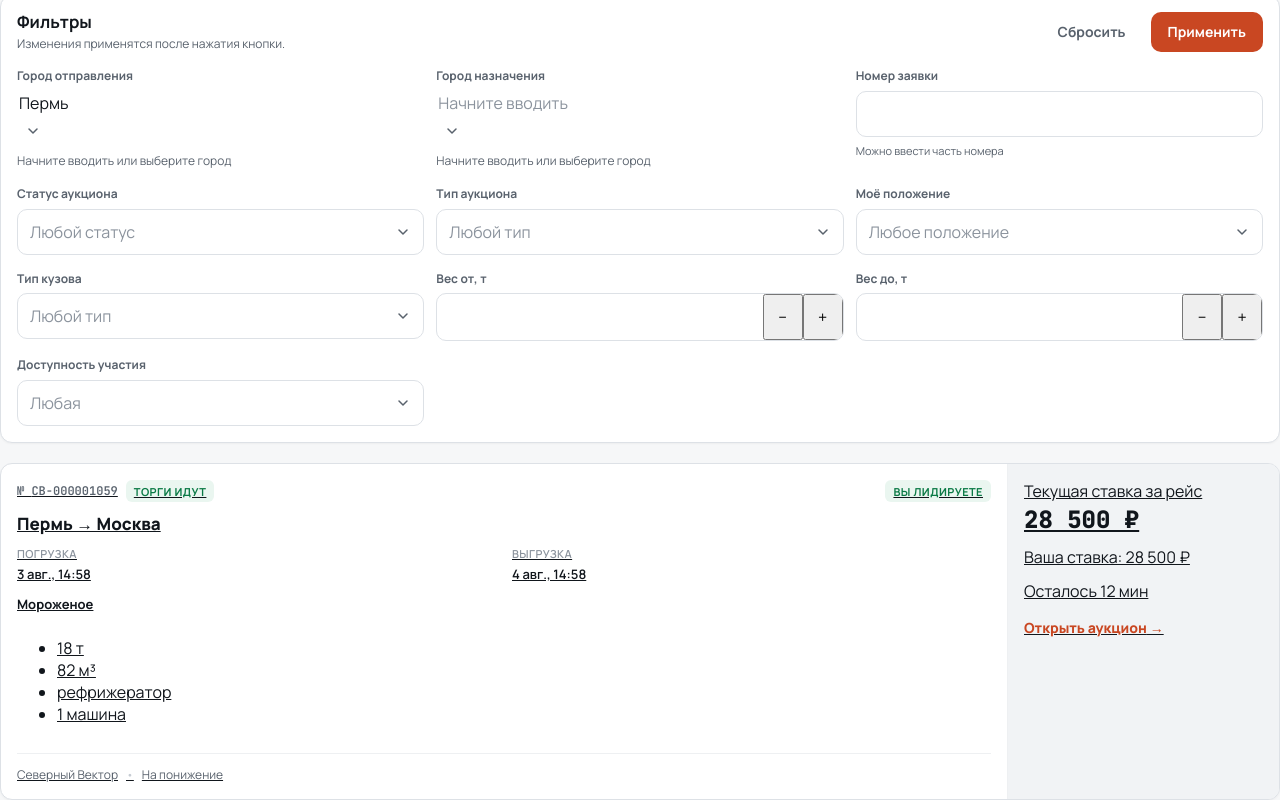
Test: auction details › returns to the filtered list with its search params preserved
(page scrolled)
Click the link with aria-label "Открыть CB-000001059: Пермь → Москва".
click(640, 631)  # box [0,463,1279,799]
(page scrolled)
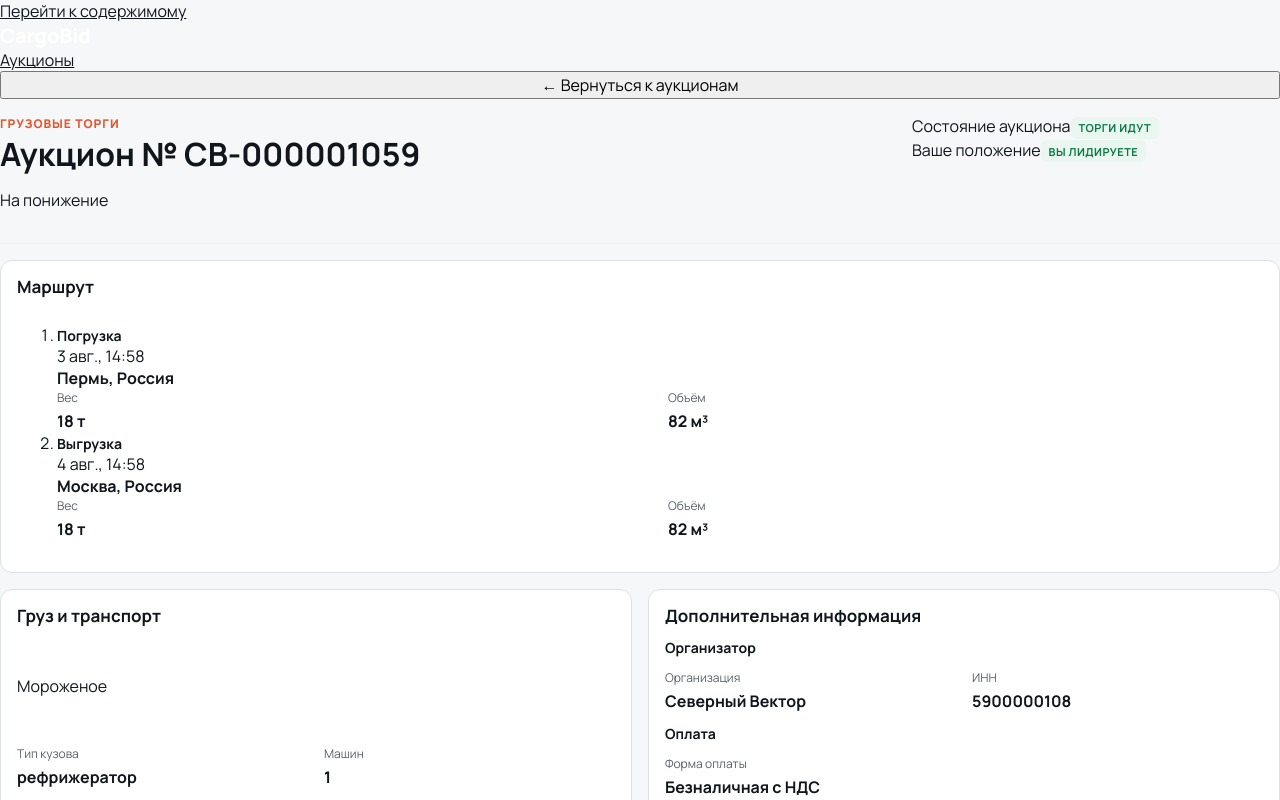
Click the button "← Вернуться к аукционам".
click(640, 85)  # box [0,71,1279,99]
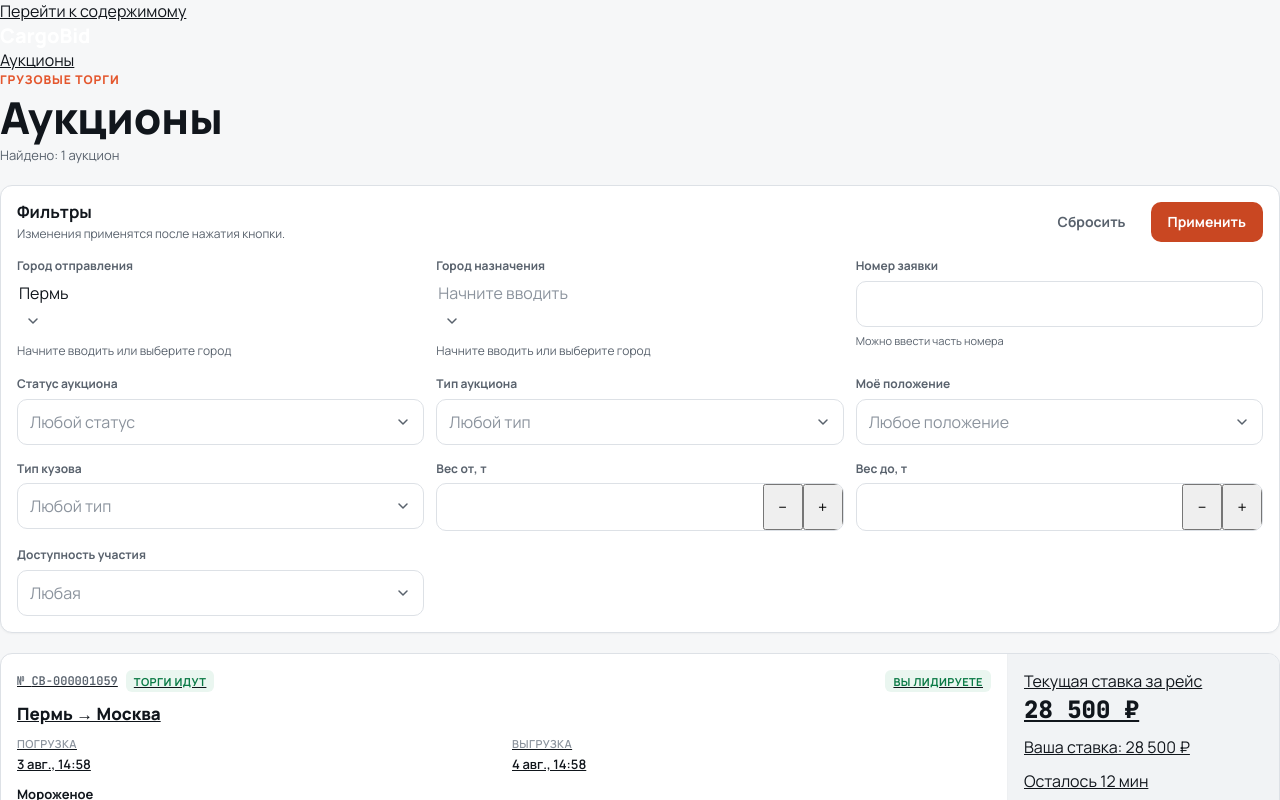
Check: the dropdown labelled "Город отправления" holds "Пермь", box [17,281,212,305]
